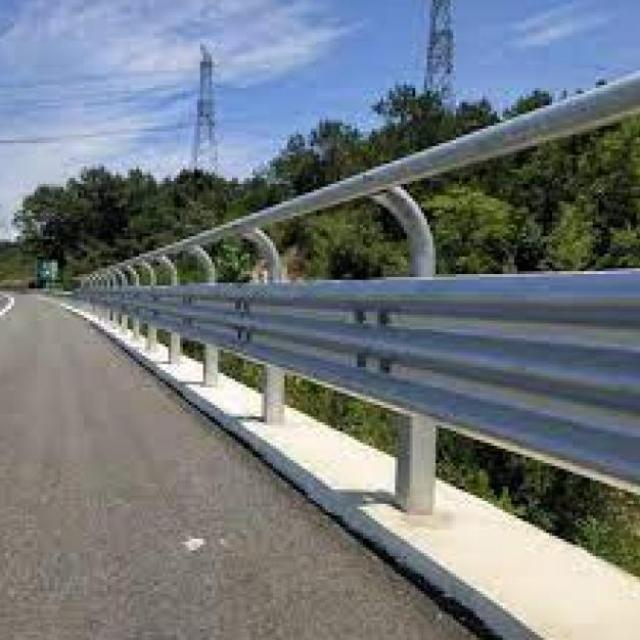Guard rail: (76, 270, 640, 482)
